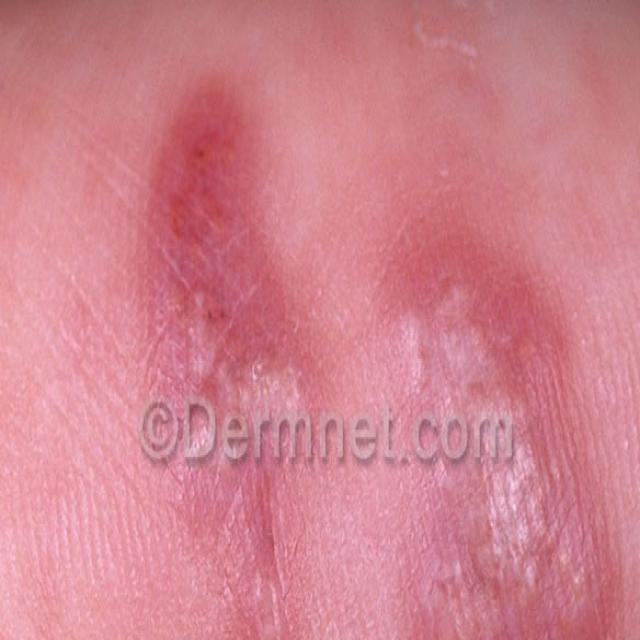Viral Infections: (102, 54, 325, 640), (363, 190, 627, 640)
